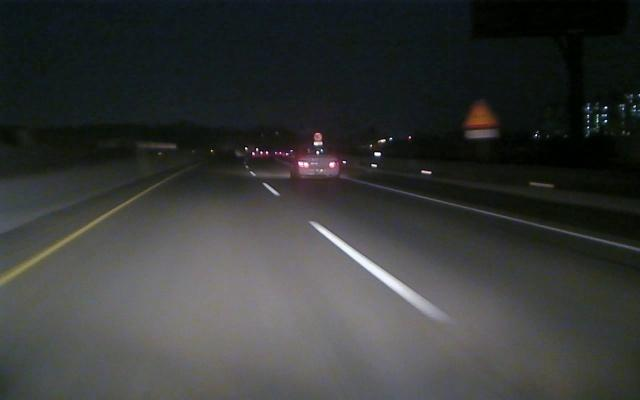lane: (263, 184, 458, 324), (348, 179, 638, 252), (2, 204, 123, 283)
